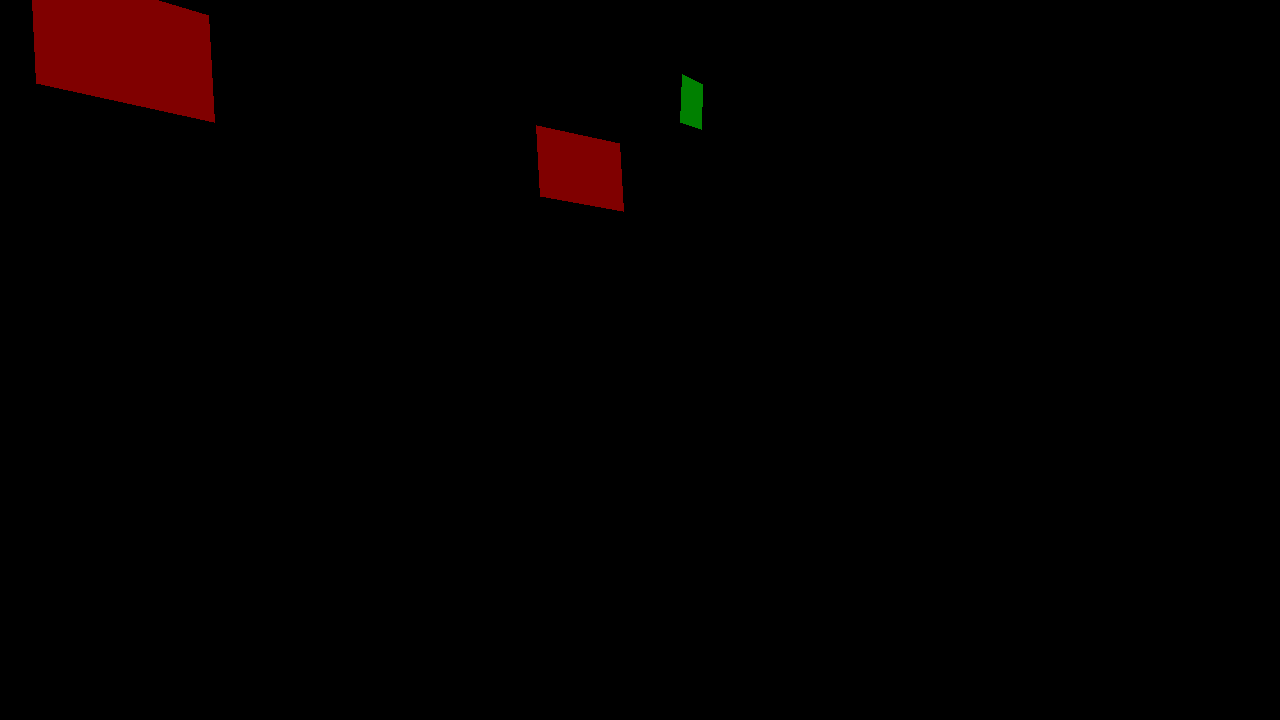sign: (680, 74, 702, 129)
tvmonitor: (32, 0, 214, 122), (536, 125, 623, 211)
